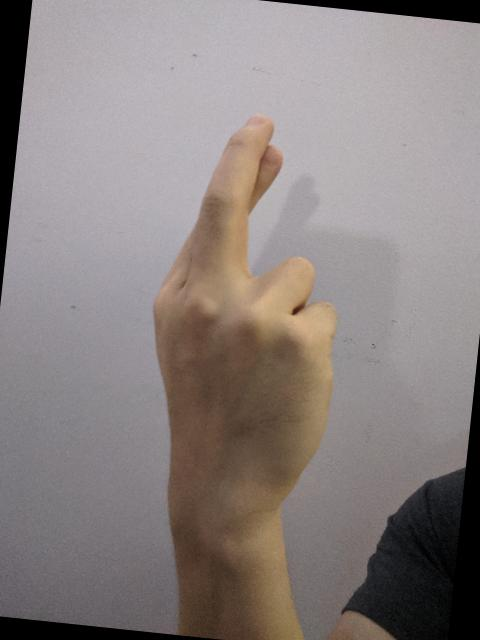R: (122, 100, 368, 542)
